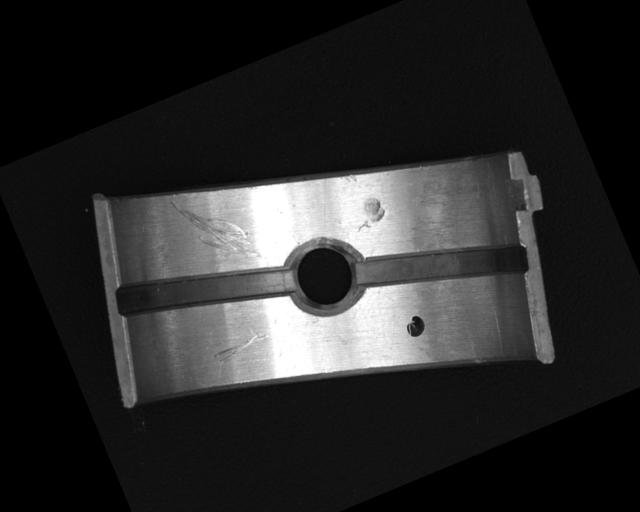blot: (401, 312, 429, 340)
bruise: (347, 193, 388, 231), (338, 170, 359, 188)
gap: (110, 223, 298, 354), (353, 202, 531, 333)
hole: (277, 229, 371, 327)
nick: (171, 175, 265, 283), (210, 327, 271, 364)
